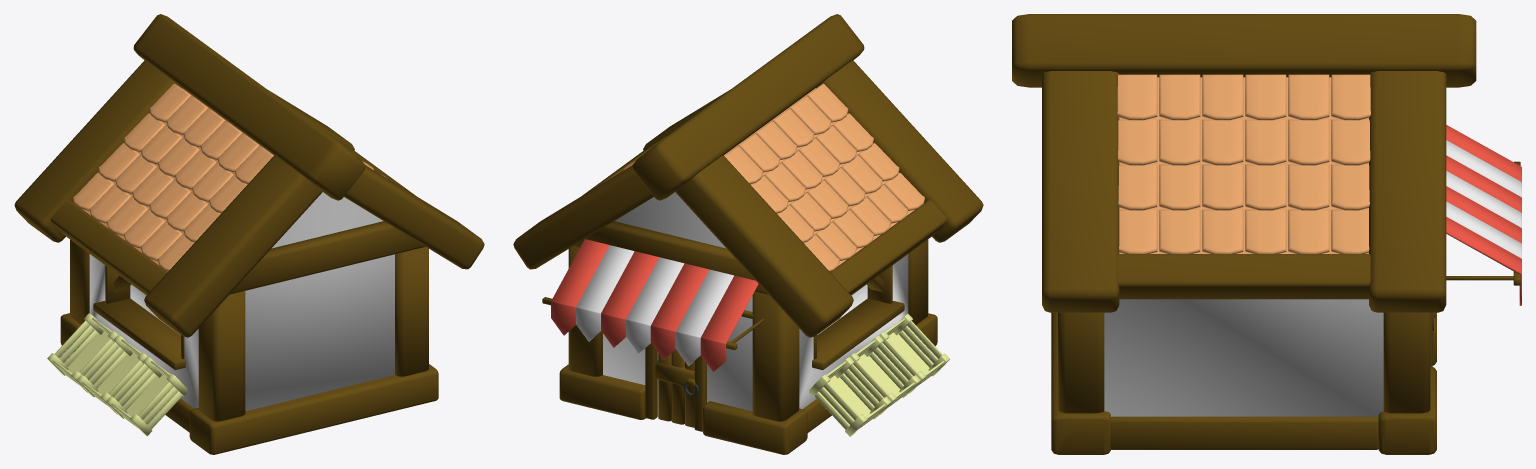
File: farm shop.glb
3 views of the same model, side by side, from view 1: azimuth 30°, elevation 25°; view 2: azimuth 150°, elevation 25°; view 3: azimuth 270°, elevation 25° (orthographic). The views are drawn at different scales.
Visible parts, largest first — view 1: Plane; view 2: Plane; view 3: Plane.
Boxes of the visible parts, x1=… form: Plane: x1=14, y1=14, x2=484, y2=454; Plane: x1=513, y1=14, x2=983, y2=454; Plane: x1=1012, y1=14, x2=1521, y2=454.
Size of the model in its own units: 6.06 by 5.4 by 6.71.
